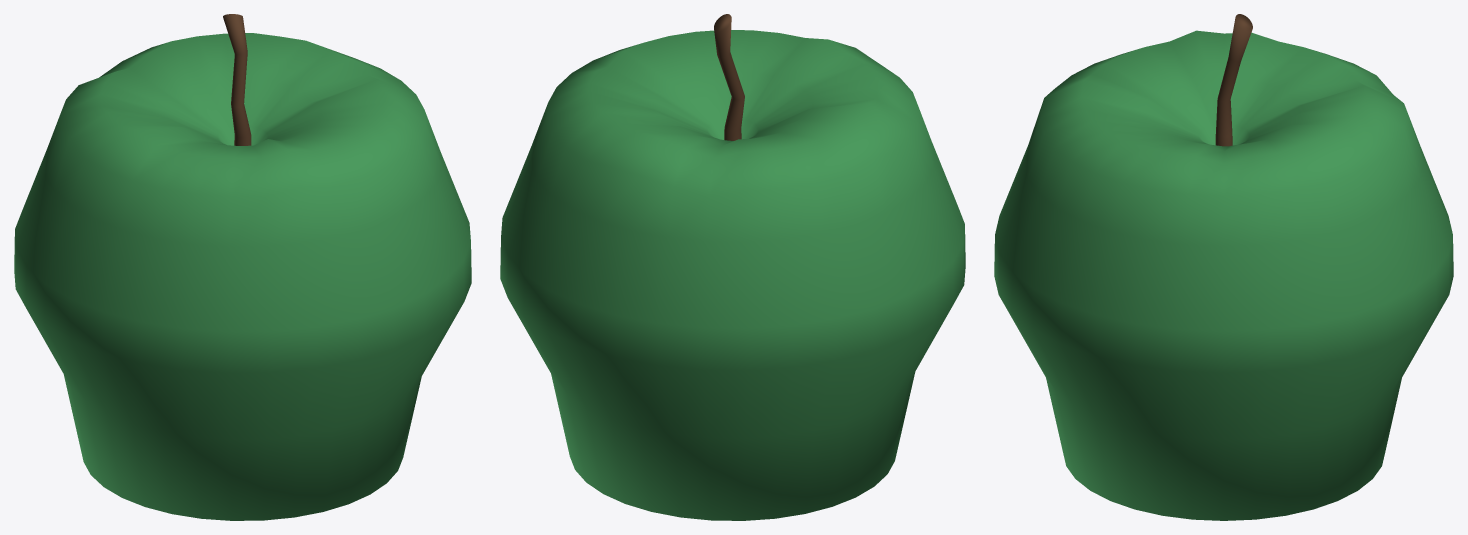
File: green apple.fbx
3 renders of one model, left to right at view 1: azimuth 30°, elevation 25°; view 2: azimuth 150°, elevation 25°; view 3: azimuth 270°, elevation 25°, orthographic.
Visible parts, largest first — view 1: Cylinder, Cylinder.001; view 2: Cylinder, Cylinder.001; view 3: Cylinder, Cylinder.001.
Part boxes in pixels (box(x1,y1,x2,y2)): Cylinder: box(14, 33, 471, 520); Cylinder.001: box(223, 14, 251, 145); Cylinder: box(500, 30, 965, 520); Cylinder.001: box(714, 14, 744, 140); Cylinder: box(994, 30, 1453, 520); Cylinder.001: box(1215, 14, 1252, 146).
Bounding box in the file's own units: 2.15 × 2.39 × 2.15.
